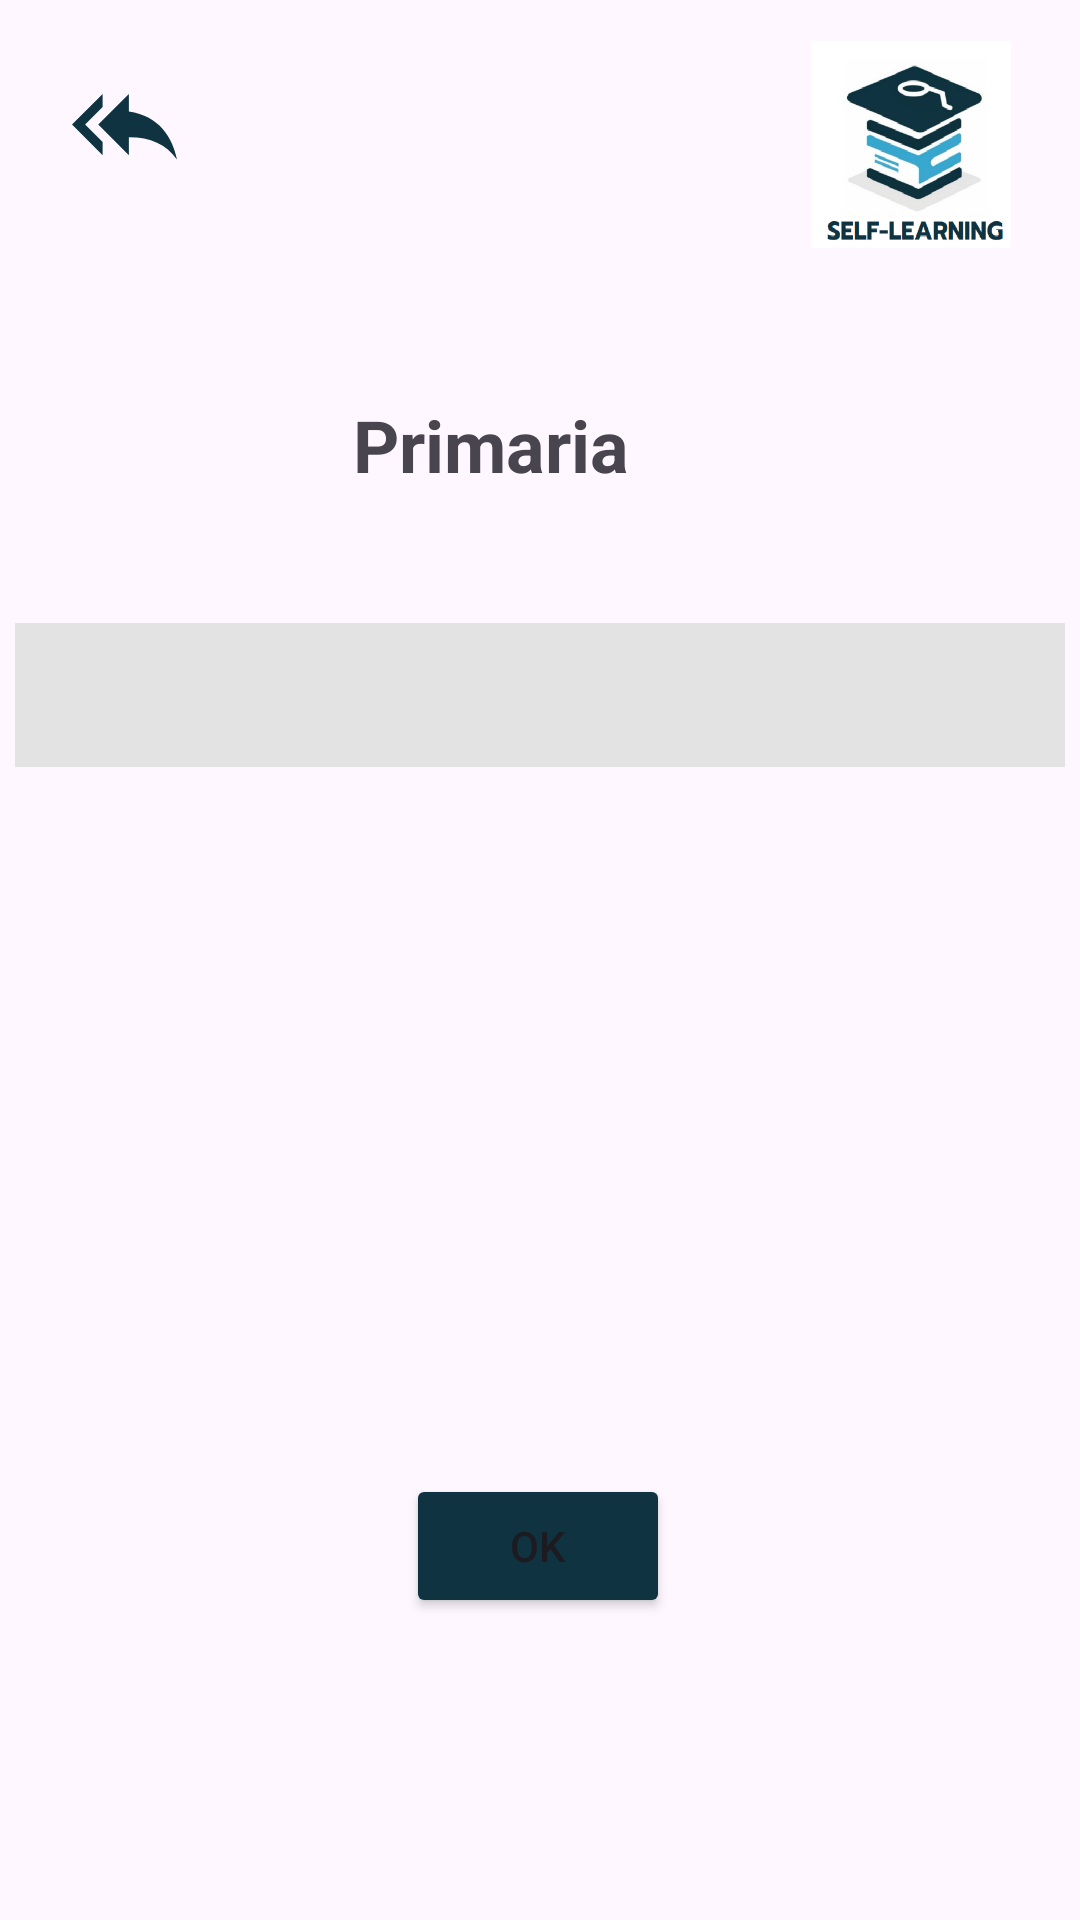

Icon bounding boxes for this 1080x1920 phone screenshot, format (x1, y1, x2, y2):
backimage: (72, 94, 177, 159)
